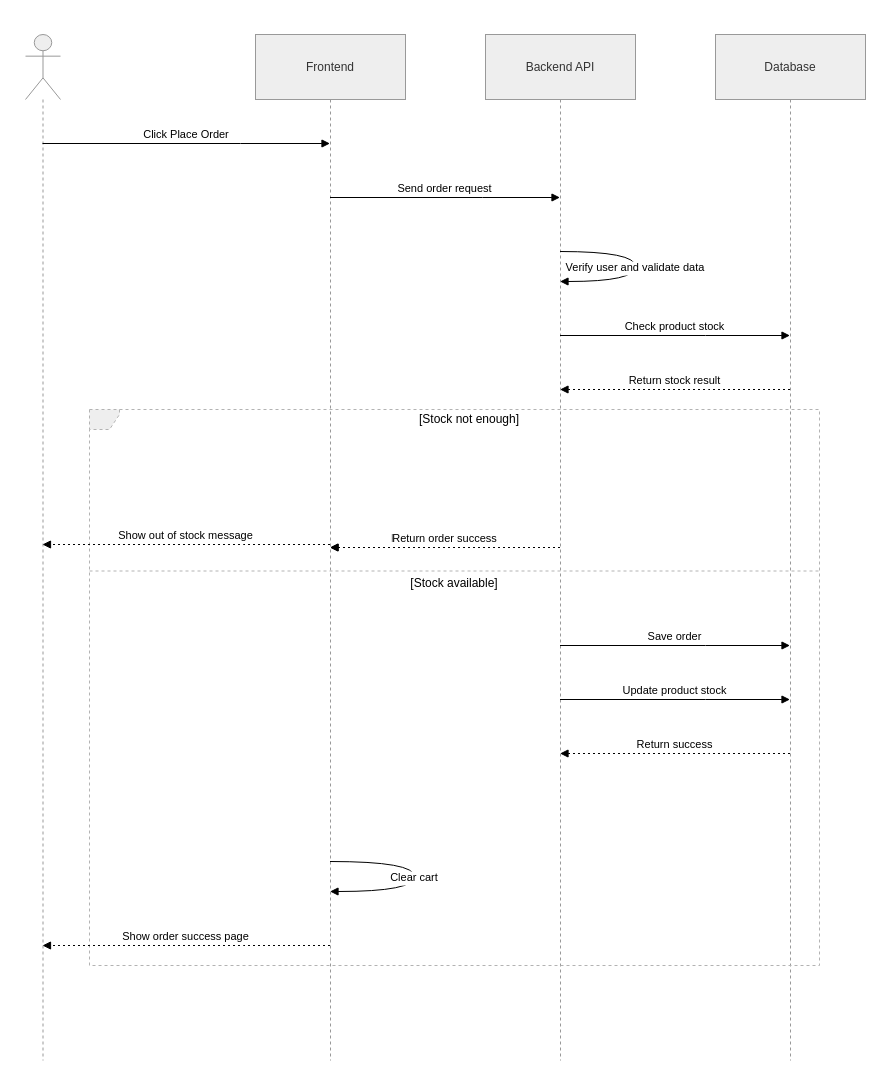
Image size: 883x1078. Some labels were removed from this diagram. Here are the shapes that lost their labels. From the top down, the box of each, then its label:
(24, 34, 60, 1060): Customer
(88, 408, 820, 966): alt
